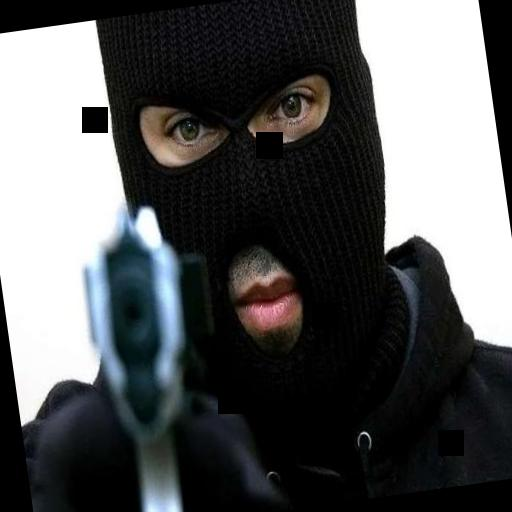Handgun: (77, 190, 211, 512)
